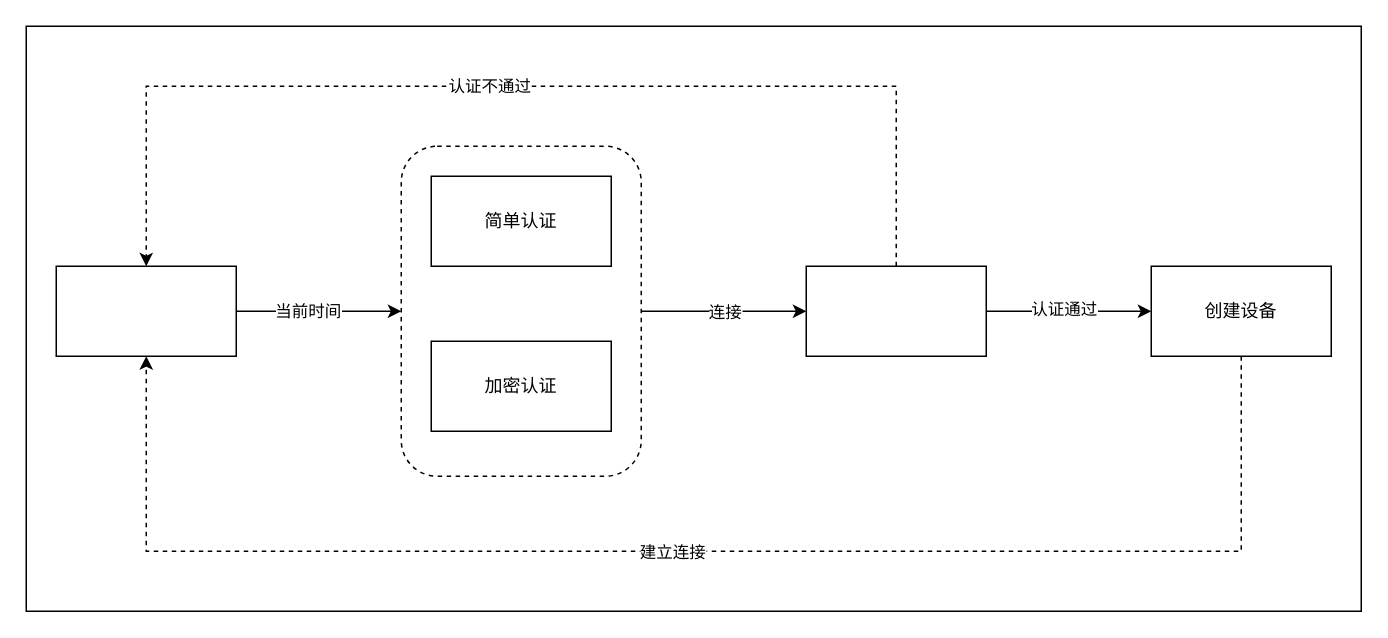
Some shapes in this 1388 by 638 pixel diagram are drawn without their labels. The shapes that lost their labels are listed below. From the top down, each one's centre as x and y in pixels, then its label:
At pixel 145 310: "设备".
At pixel 895 310: "平台".
